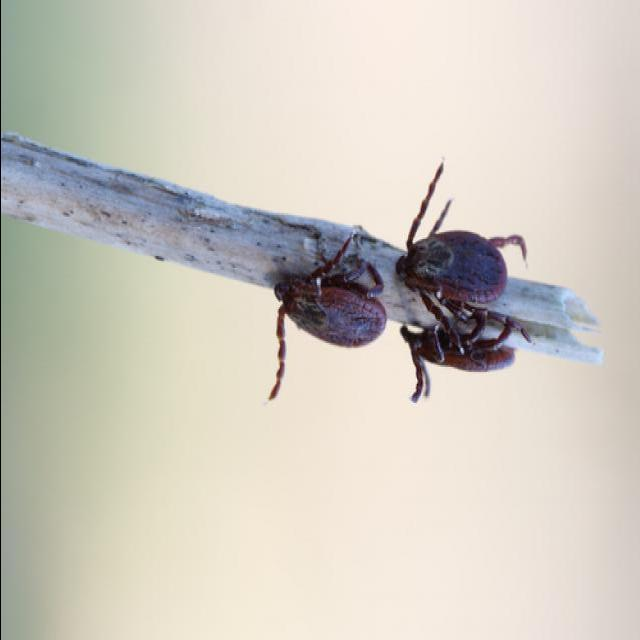Dermacentor Reticulatus-F: (398, 162, 529, 340), (266, 236, 387, 401)
